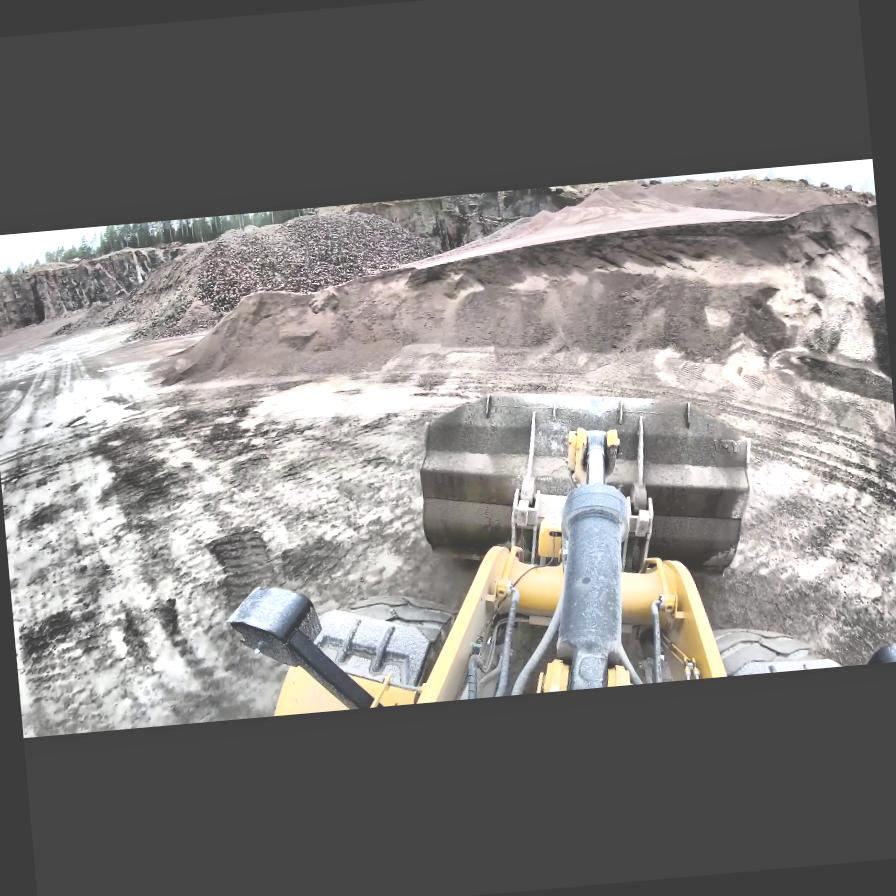anchor: (564, 423, 624, 489)
pile of gravel: (153, 196, 888, 410), (109, 202, 447, 346), (570, 158, 876, 236)
